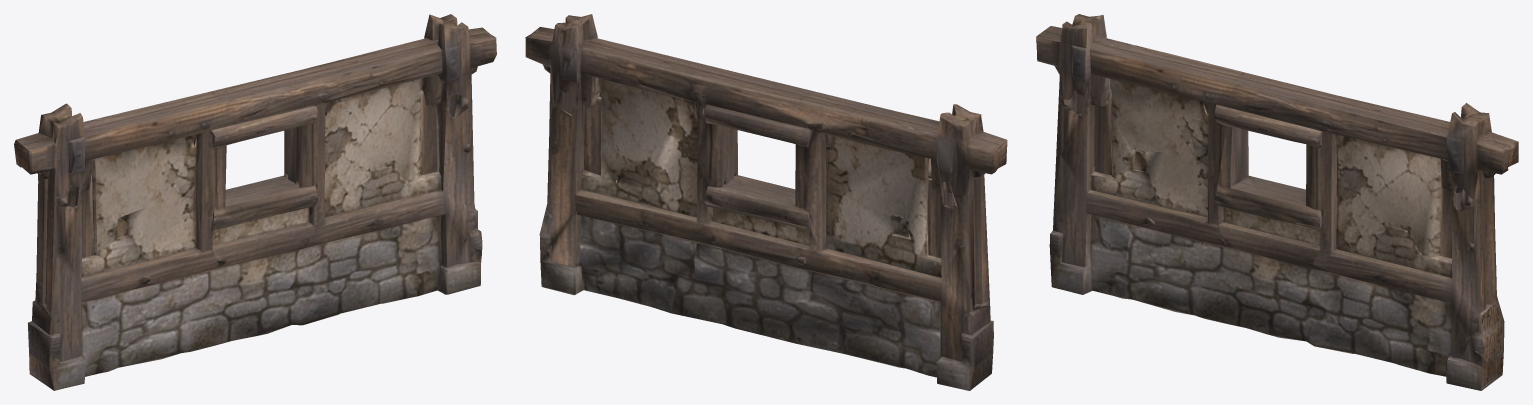
3 renders of one model, left to right at view 1: azimuth 30°, elevation 25°; view 2: azimuth 150°, elevation 25°; view 3: azimuth 330°, elevation 25°, orthographic.
Visible parts, largest first — view 1: geometry_0; view 2: geometry_0; view 3: geometry_0.
Part boxes in pixels (left/top/right/bottom): geometry_0: left=14, top=14, right=496, bottom=390; geometry_0: left=525, top=14, right=1007, bottom=390; geometry_0: left=1036, top=14, right=1518, bottom=390.
Size of the model in its own units: 3 by 1.64 by 0.2743.
1 material, 1 textured.
